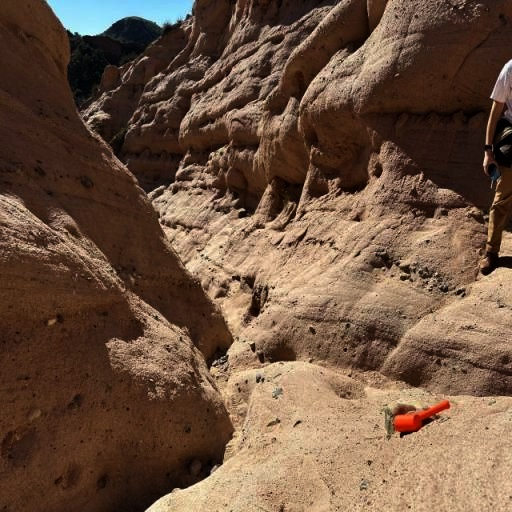mallet: (394, 401, 450, 432)
